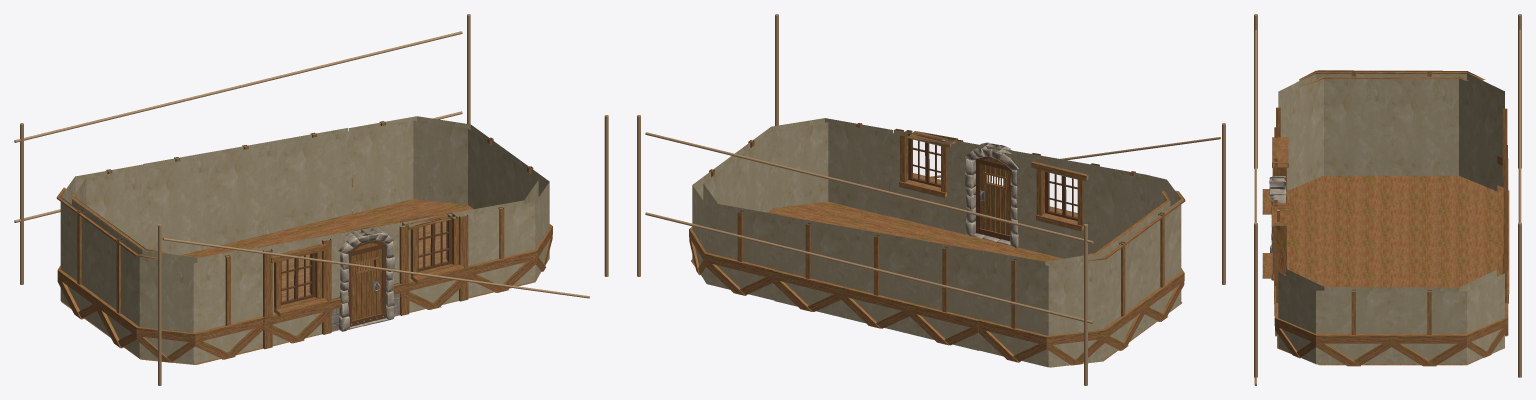
The model's file is Building1Whole_P2.glb.
3 views of the same model, side by side, from view 1: azimuth 30°, elevation 25°; view 2: azimuth 150°, elevation 25°; view 3: azimuth 270°, elevation 25° (orthographic). The views are drawn at different scales.
Size of the model in its own units: 13.33 by 4.99 by 7.09.
6 materials, 4 textured.
